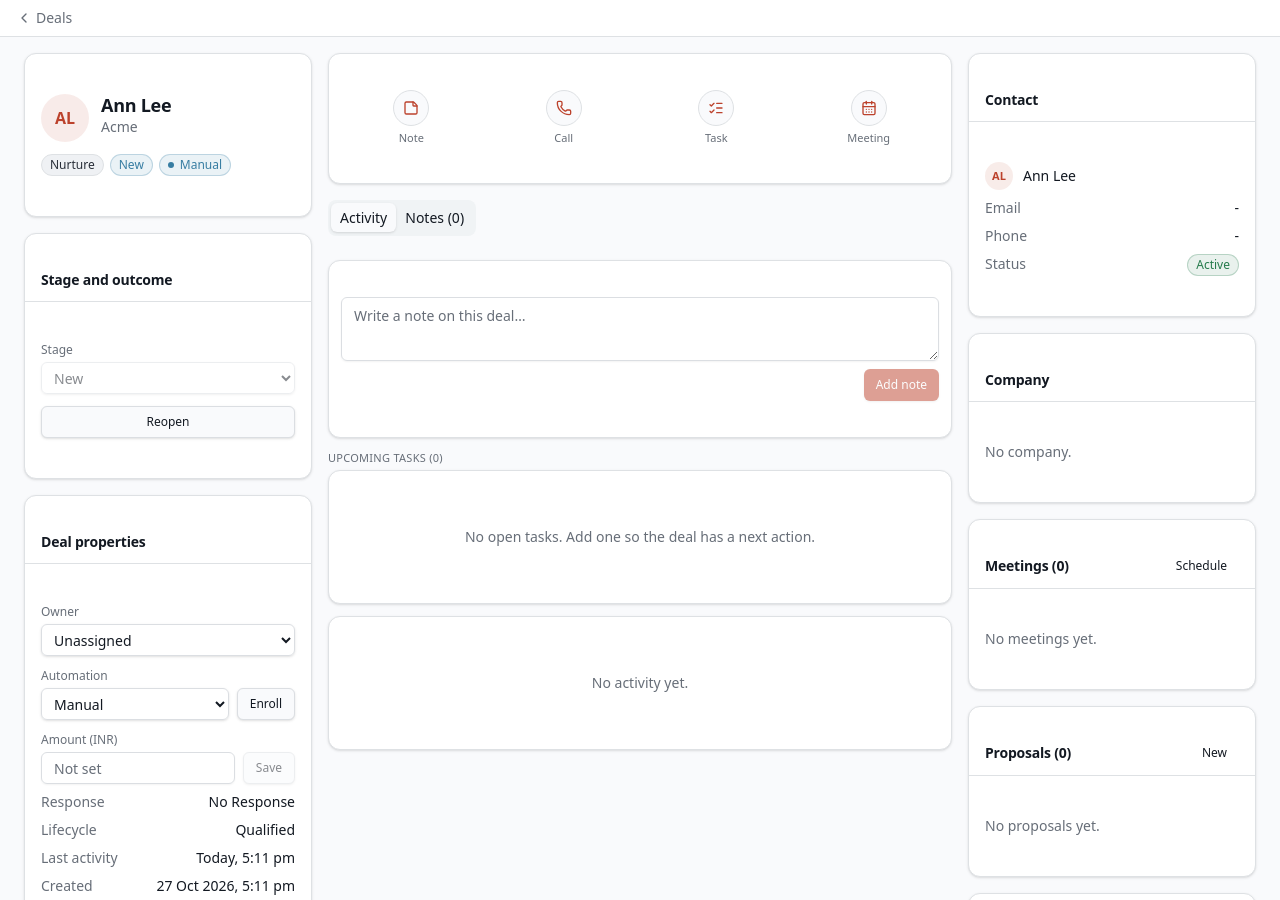
Test: deal page › shows a 409 from reopening inside the dialog
The image size is (1280, 900).
Click the button "Reopen" at [168, 422], box [41,406,295,438]
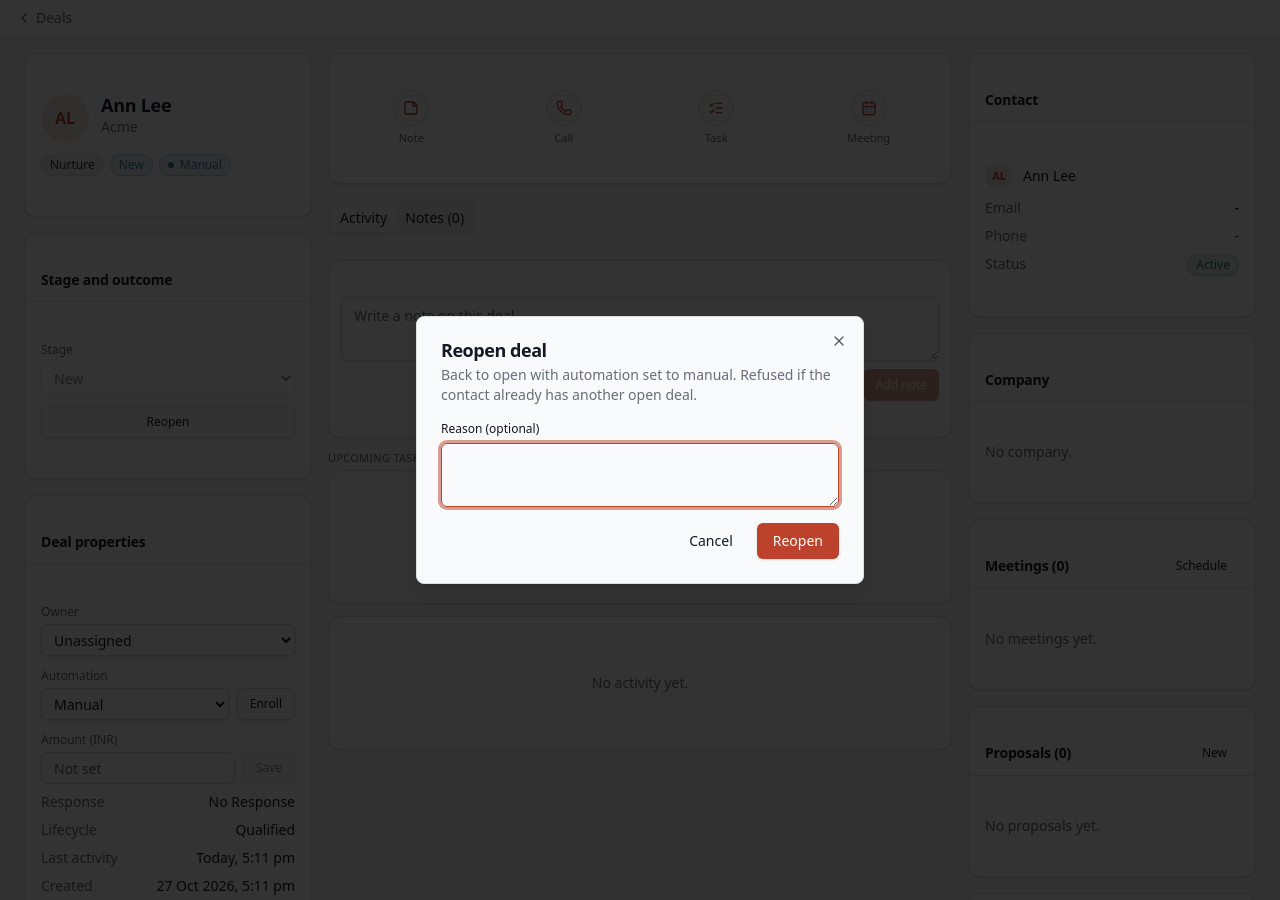
Click the button "Reopen" at [798, 541], box [757,523,839,559]
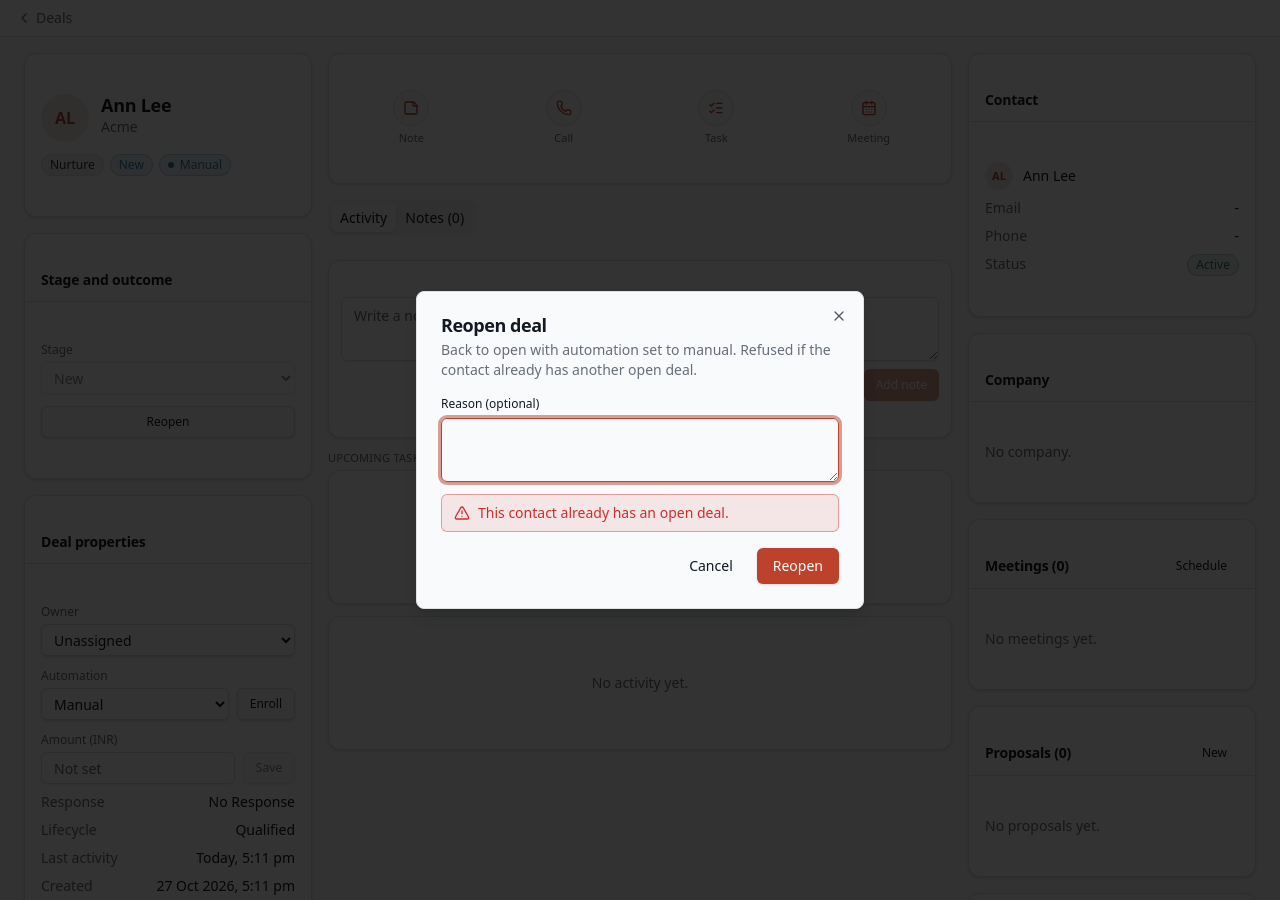
Check: the message shows "already has an open deal", box [478,503,729,522]
